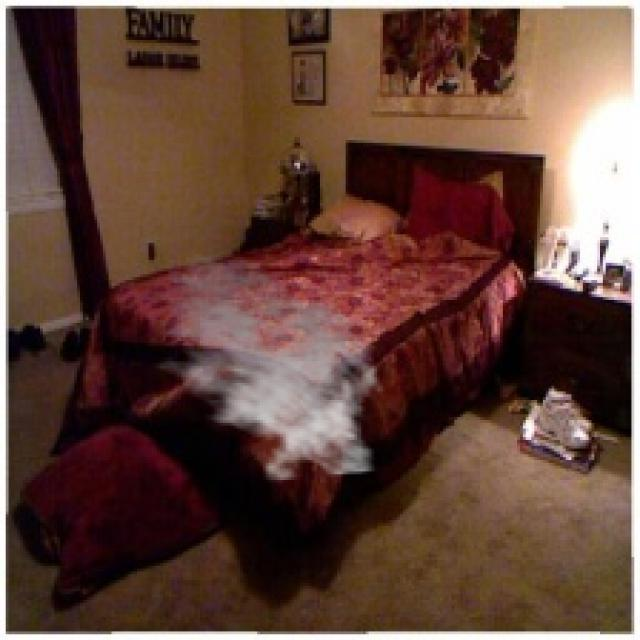Smoke: (142, 251, 388, 483)
